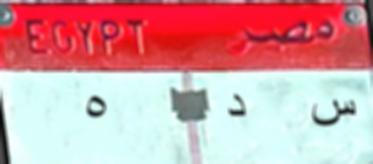5: (70, 91, 118, 128)
daal: (219, 85, 252, 127)
seen: (302, 92, 361, 132)
